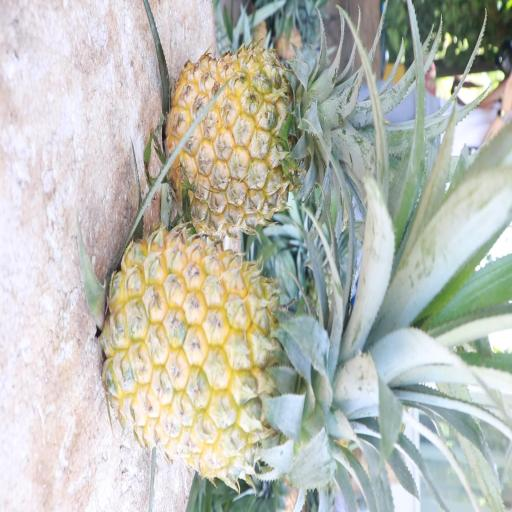Pineapple - v8 v1: (96, 218, 395, 485), (161, 41, 366, 245), (216, 154, 226, 158), (223, 112, 232, 112)
